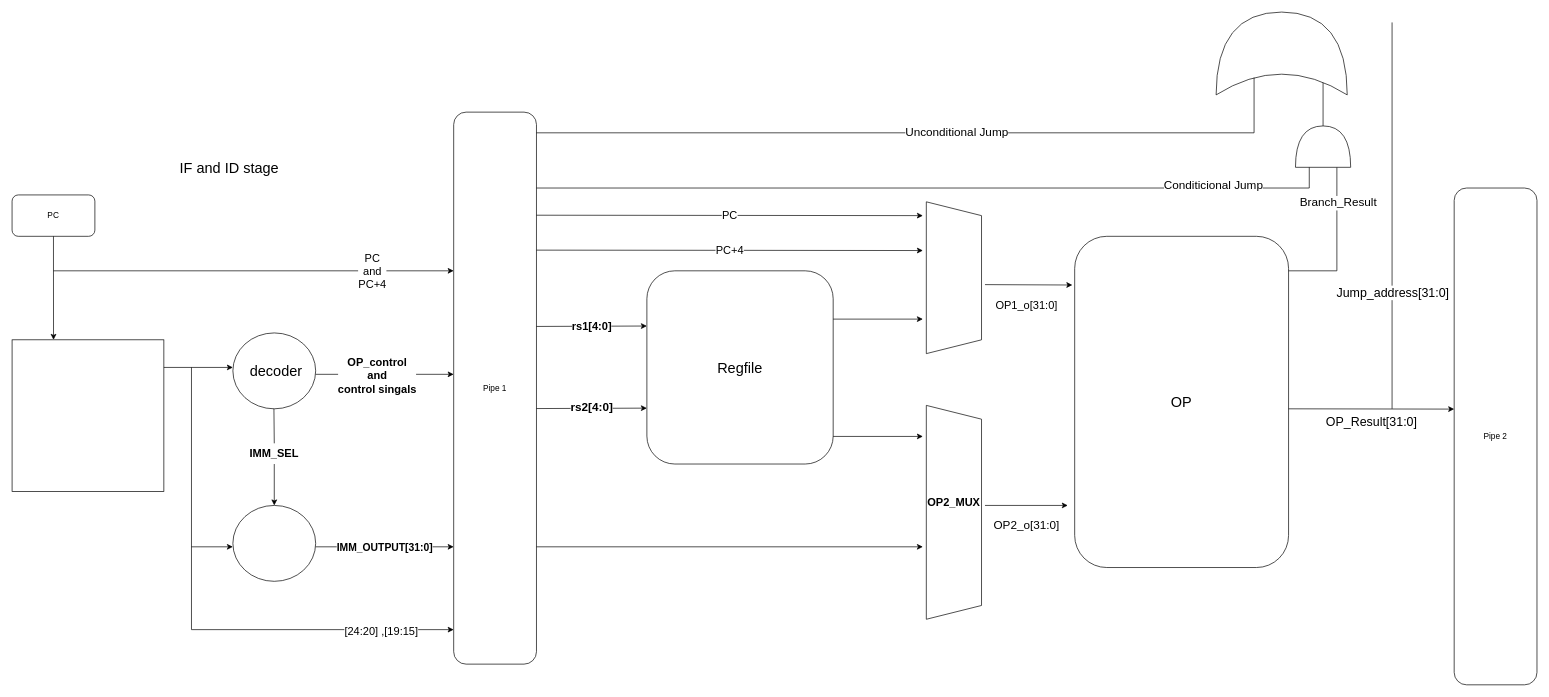
This 1549x697 diagram has some shape labels left out. Each missing label, with the centre of its shape:
"I_cache" belongs at pixel 87 415.
"IMM" belongs at pixel 274 543.
"OP1_MUX" belongs at pixel 954 277.
